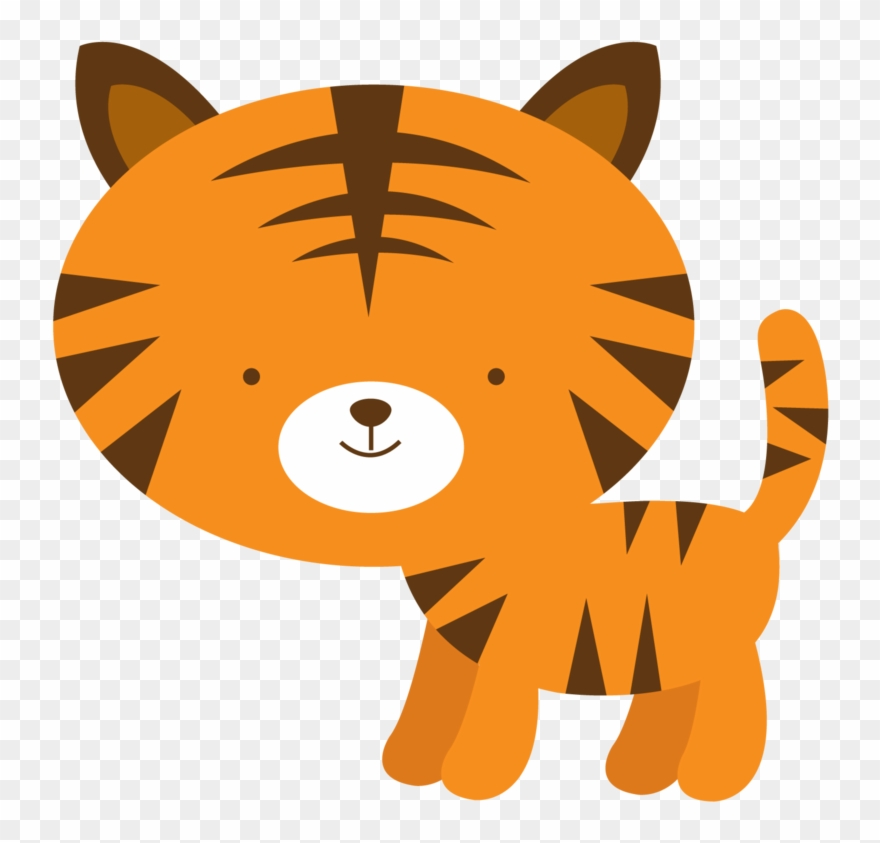Tigrew: (30, 35, 839, 811)
